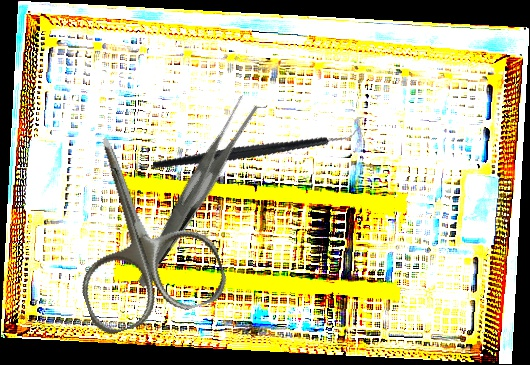Chopper: (152, 83, 361, 210)
Dressing Forceps: (90, 93, 298, 288)
Iris Scissors: (39, 115, 232, 340)
